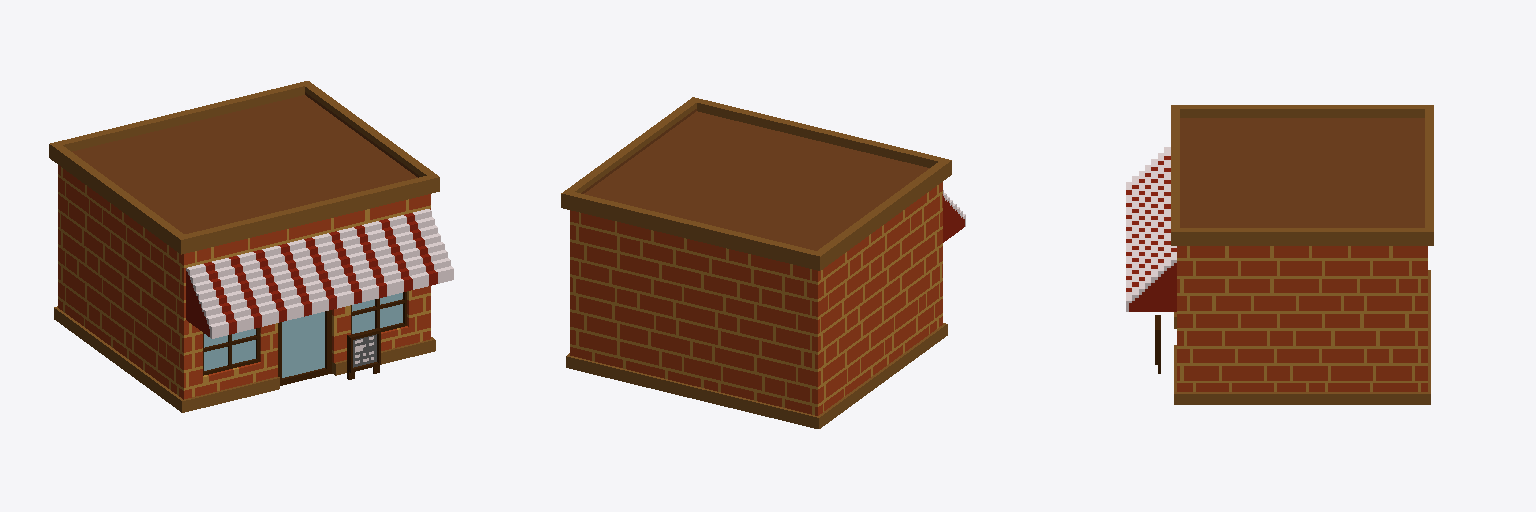
3 views of the same model, side by side, from view 1: azimuth 30°, elevation 25°; view 2: azimuth 150°, elevation 25°; view 3: azimuth 270°, elevation 25° (orthographic).
Parts seen in each view (by area): view 1: object 1; view 2: object 1; view 3: object 1.
Part boxes in pixels (left/top/right/bottom): object 1: left=49, top=81, right=453, bottom=412; object 1: left=561, top=97, right=965, bottom=428; object 1: left=1126, top=105, right=1433, bottom=404.
Bounding box in the file's own units: 9.3 × 6 × 9.6.
1 materials, 1 textured.